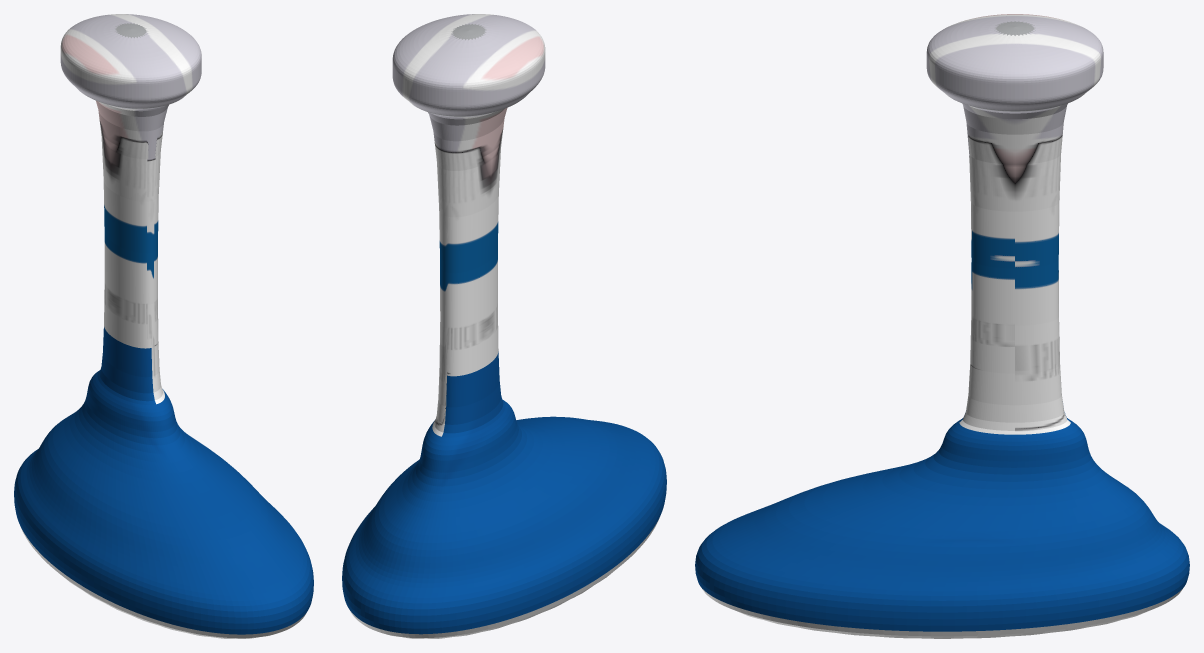
File: pie.obj
The picture shows the model from 3 angles, left to right: view 1: azimuth 30°, elevation 25°; view 2: azimuth 150°, elevation 25°; view 3: azimuth 270°, elevation 25°; orthographic projection. The views are drawn at different scales.
Visible parts, largest first — view 1: Círculo_Círculo.001; view 2: Círculo_Círculo.001; view 3: Círculo_Círculo.001.
Boxes of the visible parts, x1,y1,x2,y2 form: Círculo_Círculo.001: (14,14,313,638); Círculo_Círculo.001: (342,14,666,638); Círculo_Círculo.001: (695,14,1189,638).
Bounding box in the file's own units: 1.98 × 4.85 × 3.82.
